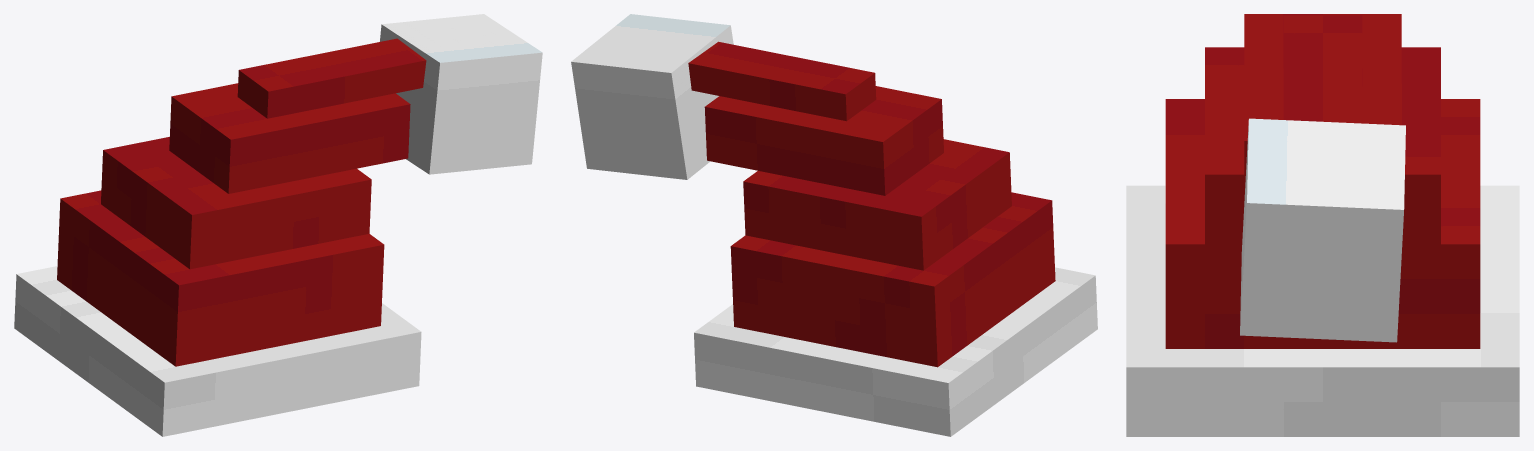
The model's file is christmasHat.gltf.
3 views of the same model, side by side, from view 1: azimuth 30°, elevation 25°; view 2: azimuth 150°, elevation 25°; view 3: azimuth 270°, elevation 25° (orthographic). The views are drawn at different scales.
Visible parts, largest first — view 1: cube_3, cube_4, cube_2, cube_5, cube_1, cube_0; view 2: cube_3, cube_4, cube_2, cube_5, cube_1, cube_0; view 3: cube_4, cube_5, cube_3, cube_2, cube_1, cube_0.
Part boxes in pixels (x1=…): cube_3: x1=57, y1=190, x2=384, y2=366; cube_4: x1=14, y1=266, x2=421, y2=436; cube_2: x1=101, y1=137, x2=371, y2=269; cube_5: x1=380, y1=14, x2=542, y2=174; cube_1: x1=169, y1=83, x2=410, y2=193; cube_0: x1=237, y1=38, x2=426, y2=118; cube_3: x1=730, y1=192, x2=1055, y2=367; cube_4: x1=694, y1=267, x2=1097, y2=436; cube_2: x1=743, y1=139, x2=1011, y2=270; cube_5: x1=571, y1=14, x2=733, y2=179; cube_1: x1=704, y1=86, x2=943, y2=195; cube_0: x1=688, y1=41, x2=876, y2=121; cube_4: x1=1126, y1=185, x2=1519, y2=436; cube_5: x1=1240, y1=118, x2=1405, y2=342; cube_3: x1=1165, y1=99, x2=1480, y2=348; cube_2: x1=1205, y1=47, x2=1440, y2=244; cube_1: x1=1244, y1=14, x2=1401, y2=200; cube_0: x1=1283, y1=15, x2=1362, y2=123.
Bounding box in the file's own units: 1.04 × 0.6353 × 0.625.
3 materials, 3 textured.
